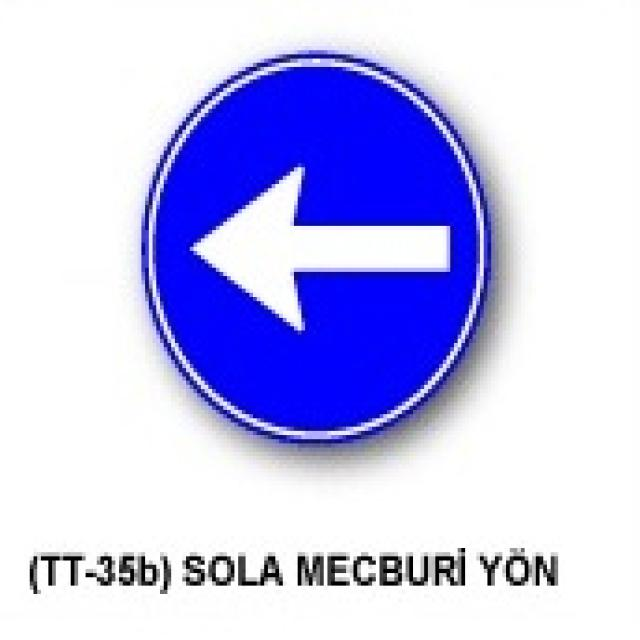SensObligatoire: (134, 46, 502, 456)
